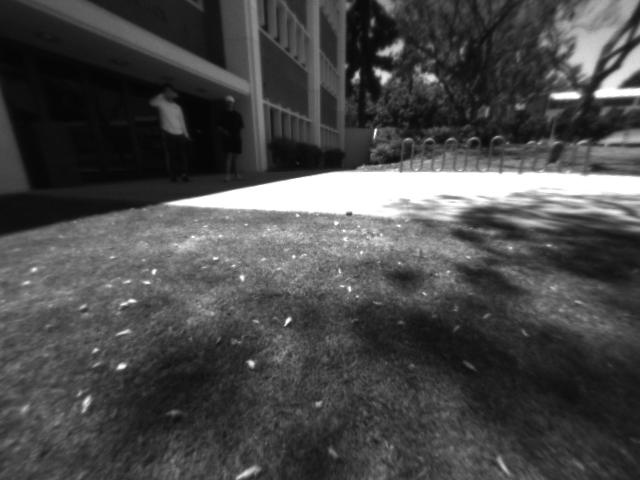dogtoy: (337, 203, 364, 224)
